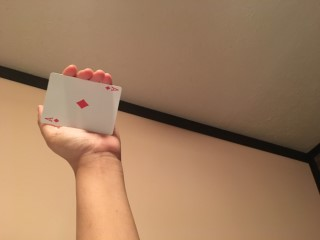AceOfDiamonds: (40, 72, 122, 135)
